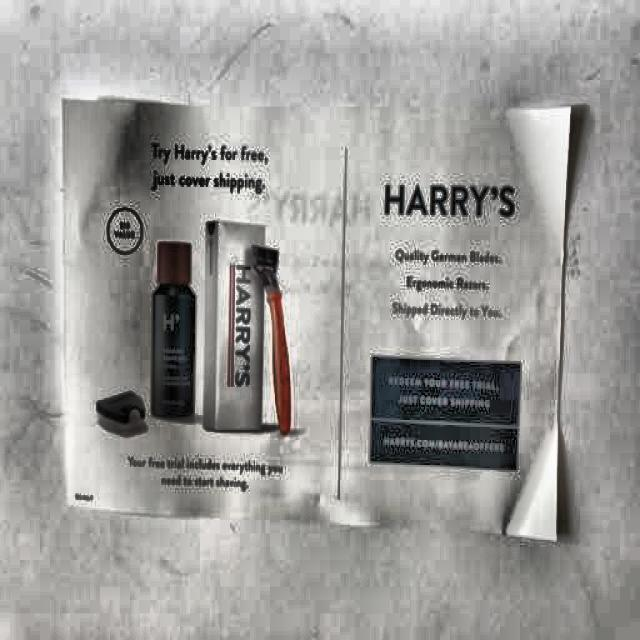paper: (57, 93, 566, 562)
